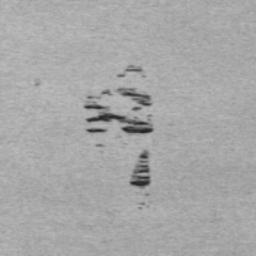Secondary rust skin: (85, 66, 153, 186)
